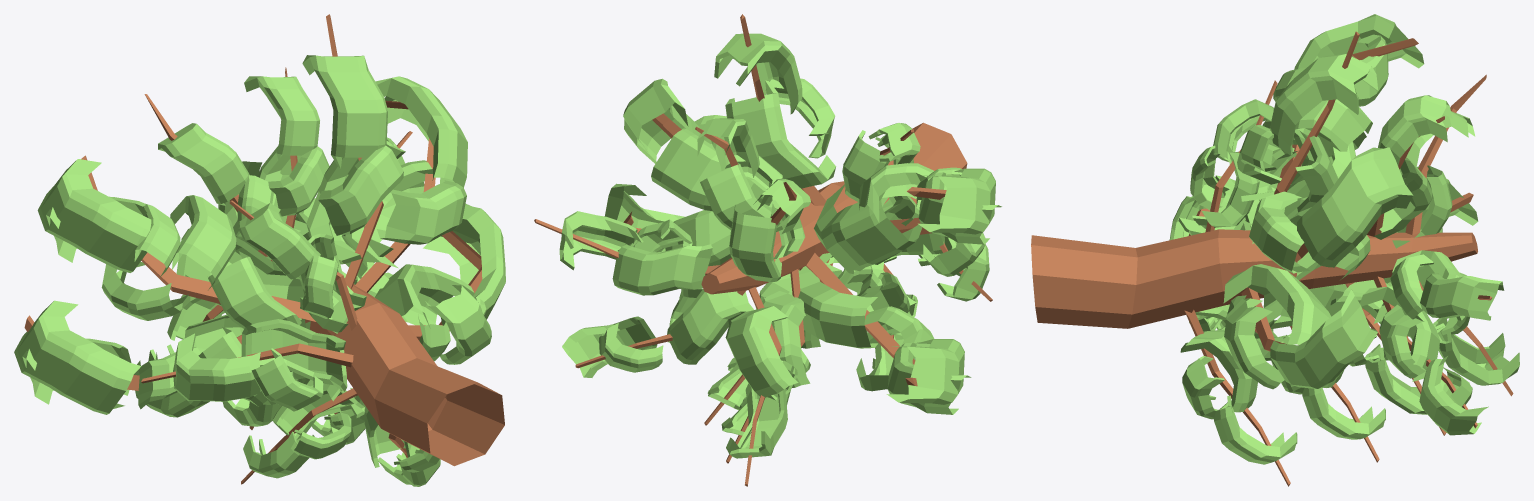
Rendered from Árbol 3.fbx.
3 views of the same model, side by side, from view 1: azimuth 30°, elevation 25°; view 2: azimuth 150°, elevation 25°; view 3: azimuth 270°, elevation 25° (orthographic). The views are drawn at different scales.
Visible parts, largest first — view 1: Plane.039; view 2: Plane.039; view 3: Plane.039.
Boxes of the visible parts, <box> form: Plane.039: <box>14,14,505,486</box>; Plane.039: <box>534,14,1001,486</box>; Plane.039: <box>1031,14,1519,486</box>.
Bounding box in the file's own units: 1074 × 1074 × 1108.
